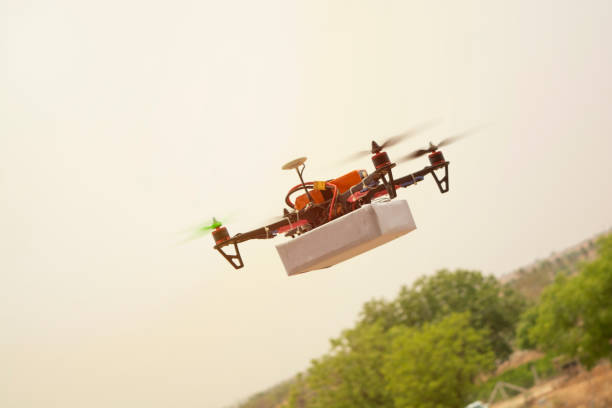Drone: (177, 124, 480, 269)
